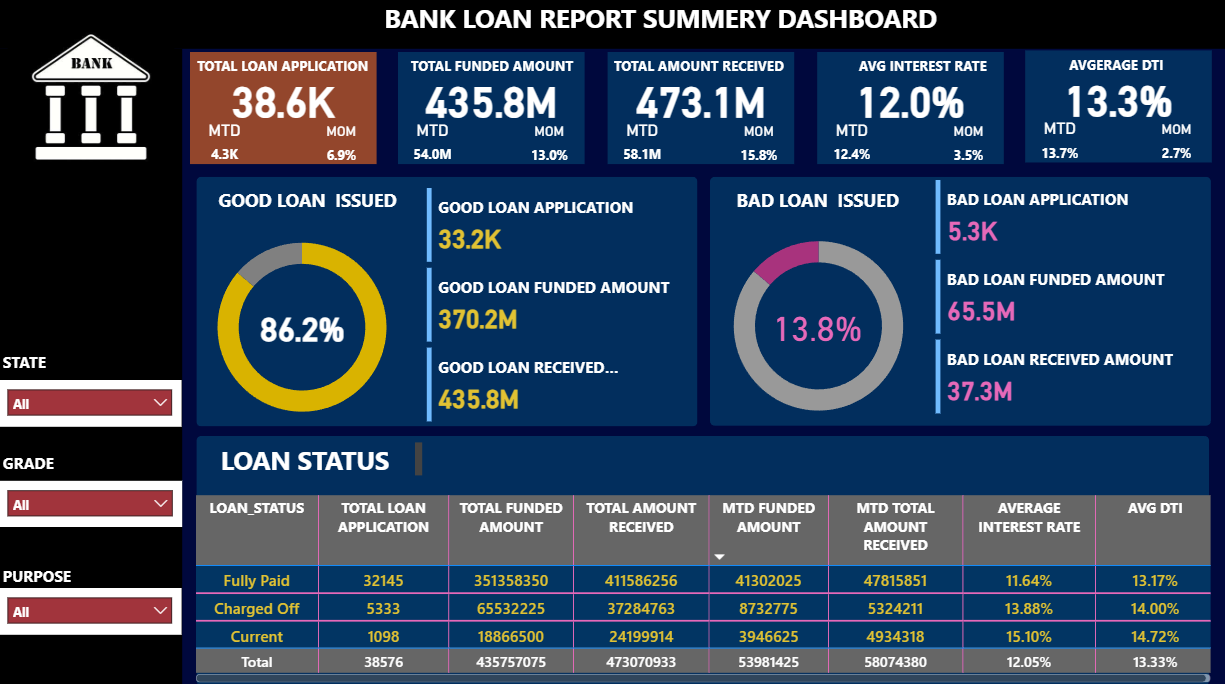

This screenshot's page, from the dashboard's own definition file:
{"tool":"powerbi","page":{"name":"Page 1","canvas":[1280,720],"ordinal":0},"visuals":[{"type":"shape","box":[0,54.9,192,665.6],"z":0},{"type":"shape","box":[0,0,1279.5,55],"z":1000},{"type":"shape","box":[199.2,58.2,194.6,116.7],"z":1000,"group":"g1"},{"type":"textbox","box":[311.1,0,757.1,51.6],"z":2000},{"type":"shape","box":[416.7,57.9,194.6,116.7],"z":2000,"group":"g2"},{"type":"group","id":"g1","title":"Group 1","box":[183.3,55.3,226,132.7],"z":3000},{"type":"shape","box":[634.3,57.9,194.6,116.7],"z":3000,"group":"g3"},{"type":"group","id":"g2","title":"Group 2","box":[400.8,55,226.2,133.8],"z":4000},{"type":"shape","box":[852,57.9,194.6,116.7],"z":4000,"group":"g4"},{"type":"group","id":"g3","title":"Group 3","box":[618.4,55,226.2,132.5],"z":5000},{"type":"shape","box":[1069.7,56.7,194.6,116.7],"z":5000,"group":"g5"},{"type":"group","id":"g4","title":"Group 4","box":[836.1,55,226.2,132.5],"z":6000},{"type":"card","fields":{"Values":["financial_loan.TOTAL LOAN APPLICATION"]},"box":[207.8,55.3,177.3,102.3],"z":7000,"group":"g1"},{"type":"shape","box":[207.1,188.6,522,260],"z":7000},{"type":"card","fields":{"Values":["financial_loan.TOTAL FUNDED AMOUNT"]},"box":[425.3,55,177.3,102.3],"z":8000,"group":"g2"},{"type":"shape","box":[742.2,188.8,521.7,259.4],"z":8000},{"type":"card","fields":{"Values":["financial_loan.TOTAL AMOUNT RECEIVED"]},"box":[642.9,55,177.3,102.3],"z":9000,"group":"g3"},{"type":"card","fields":{"Values":["financial_loan.BAD LOAN %"]},"box":[765.3,291.1,177.3,103.8],"z":9000},{"type":"group","id":"g5","title":"Group 5","box":[1053.8,53.8,226.2,132.5],"z":10000},{"type":"card","fields":{"Values":["financial_loan.AVERAGE INTEREST RATE"]},"box":[860.6,55,177.3,102.3],"z":10000,"group":"g4"},{"type":"donutChart","fields":{"Category":["financial_loan.Good vs Bad loan"],"Y":["financial_loan.TOTAL LOAN APPLICATION"]},"box":[191.4,228.7,250,230],"z":10000,"group":"g6"},{"type":"card","fields":{"Values":["financial_loan.AVG DTI"]},"box":[1078.3,53.8,177.3,102.3],"z":11000,"group":"g5"},{"type":"card","fields":{"Values":["financial_loan.GOOD LOAN %"]},"box":[228.6,292.9,177.1,102.9],"z":11000},{"type":"group","id":"g6","title":"Group 6","box":[191.4,194.3,254.3,264.3],"z":12000},{"type":"textbox","box":[195.8,58.4,200,33.3],"z":13000,"group":"g1"},{"type":"textbox","box":[197.7,194.3,248.6,34.3],"z":13000,"group":"g6"},{"type":"donutChart","fields":{"Category":["financial_loan.Good vs Bad loan"],"Y":["financial_loan.TOTAL LOAN APPLICATION"]},"box":[729.2,229.1,249.3,230.6],"z":13000},{"type":"textbox","box":[425.8,57.5,200,33.3],"z":14000,"group":"g2"},{"type":"cardVisual","fields":{"Data":["financial_loan.GOOD LOAN APPLICATION","financial_loan.GOOD LOAN FUNDED AMOUNT","financial_loan.GOOD LOAN RECEIVED AMOUNT"]},"box":[441.4,194.3,282.9,254.3],"z":14000},{"type":"textbox","box":[636,58.6,200,31.7],"z":15000,"group":"g3"},{"type":"textbox","box":[729.2,194.6,247.9,34.6],"z":15000},{"type":"textbox","box":[862,57.9,200.3,33.1],"z":16000,"group":"g4"},{"type":"cardVisual","fields":{"Data":["financial_loan.BAD LOAN APPLICATION","financial_loan.BAD LOAN FUNDED AMOUNT","financial_loan.BAD LOAN RECEIVED AMOUNT"]},"box":[971.3,185.9,283.9,253.6],"z":16000},{"type":"textbox","box":[1065.5,57.1,200,33.3],"z":17000,"group":"g5"},{"type":"shape","box":[206.7,458.3,1055,260],"z":17000},{"type":"card","title":"MTD","fields":{"Values":["financial_loan.MTD LOAN APPLICTION"]},"box":[183.3,130.2,105.2,56.2],"z":18000,"group":"g1"},{"type":"tableEx","fields":{"Values":["financial_loan.loan_status","financial_loan.TOTAL LOAN APPLICATION","financial_loan.TOTAL FUNDED AMOUNT","financial_loan.TOTAL AMOUNT RECEIVED","financial_loan.MTD FUNDED AMOUNT","financial_loan.MTD TOTAL AMOUNT RECEIVED","financial_loan.AVERAGE INTEREST RATE","financial_loan.AVG DTI"]},"box":[200,515,1068.3,205],"z":18000},{"type":"card","title":"MTD","fields":{"Values":["financial_loan.MOT FUNDED AMOUNT"]},"box":[400.8,129.9,105.2,56.2],"z":19000,"group":"g2"},{"type":"textbox","box":[200,460,246.7,45],"z":19000},{"type":"card","title":"MTD","fields":{"Values":["financial_loan.MTD TOTAL AMOUNT RECEIVED"]},"box":[618.4,129.9,105.2,56.2],"z":20000,"group":"g3"},{"type":"slicer","fields":{"Values":["financial_loan.address_state"]},"box":[0,400,191.4,48.6],"z":20000},{"type":"card","title":"MTD","fields":{"Values":["financial_loan.MTD AVERAGE INTEREST RATE"]},"box":[836.1,129.9,105.2,56.2],"z":21000,"group":"g4"},{"type":"textbox","box":[0,365.7,182.9,34.3],"z":21000},{"type":"card","title":"MTD","fields":{"Values":["financial_loan.MTD AVG DTI"]},"box":[1053.8,128.7,105.2,56.2],"z":22000,"group":"g5"},{"type":"slicer","fields":{"Values":["financial_loan.grade"]},"box":[0,505,191.7,48.3],"z":22000},{"type":"card","title":"MOM","fields":{"Values":["financial_loan.MOM LOAN APPLICATION"]},"box":[304.4,131.7,105.2,56.2],"z":23000,"group":"g1"},{"type":"textbox","box":[0,470,118.6,34.3],"z":23000},{"type":"card","title":"MOM","fields":{"Values":["financial_loan.MOM TOTAL FUNDED AMOUNT"]},"box":[521.9,131.4,105.2,56.2],"z":24000,"group":"g2"},{"type":"slicer","fields":{"Values":["financial_loan.purpose"]},"box":[0,617.1,191.4,48.6],"z":24000},{"type":"card","title":"MOM","fields":{"Values":["financial_loan.MOM TOTAL AMOUNT RECEIVED"]},"box":[739.5,131.4,105.2,56.2],"z":25000,"group":"g3"},{"type":"textbox","box":[0,588.6,118.6,34.3],"z":25000},{"type":"image","box":[5,8.3,183.6,193.6],"z":26000},{"type":"card","title":"MOM","fields":{"Values":["financial_loan.MOM AVG INT RATE"]},"box":[957.2,131.4,105.2,56.2],"z":26000,"group":"g4"},{"type":"card","title":"MOM","fields":{"Values":["financial_loan.MOM AVG DTI"]},"box":[1174.9,130.2,105.2,56.2],"z":27000,"group":"g5"}]}

Visuals, with their boxes in screenshot pixels (x1, y1, x2, y2), scaled from the page's 1280x720 canvas onto the 1225x684 screenshot:
shape: <region>0, 52, 184, 683</region>
shape: <region>0, 0, 1224, 52</region>
shape: <region>191, 55, 377, 166</region>
textbox: <region>298, 0, 1022, 49</region>
shape: <region>399, 55, 585, 166</region>
"Group 1" group: <region>175, 53, 392, 179</region>
shape: <region>607, 55, 793, 166</region>
"Group 2" group: <region>384, 52, 600, 179</region>
shape: <region>815, 55, 1002, 166</region>
"Group 3" group: <region>592, 52, 808, 178</region>
shape: <region>1024, 54, 1210, 165</region>
"Group 4" group: <region>800, 52, 1017, 178</region>
card - financial_loan.TOTAL LOAN APPLICATION: <region>199, 53, 369, 150</region>
shape: <region>198, 179, 698, 426</region>
card - financial_loan.TOTAL FUNDED AMOUNT: <region>407, 52, 577, 149</region>
shape: <region>710, 179, 1210, 426</region>
card - financial_loan.TOTAL AMOUNT RECEIVED: <region>615, 52, 785, 149</region>
card - financial_loan.BAD LOAN %: <region>732, 277, 902, 375</region>
"Group 5" group: <region>1009, 51, 1224, 177</region>
card - financial_loan.AVERAGE INTEREST RATE: <region>824, 52, 993, 149</region>
donutChart - financial_loan.Good vs Bad loan x financial_loan.TOTAL LOAN APPLICATION: <region>183, 217, 422, 436</region>
card - financial_loan.AVG DTI: <region>1032, 51, 1202, 148</region>
card - financial_loan.GOOD LOAN %: <region>219, 278, 388, 376</region>
"Group 6" group: <region>183, 185, 427, 436</region>
textbox: <region>187, 55, 379, 87</region>
textbox: <region>189, 185, 427, 217</region>
donutChart - financial_loan.Good vs Bad loan x financial_loan.TOTAL LOAN APPLICATION: <region>698, 218, 936, 437</region>
textbox: <region>408, 55, 599, 86</region>
cardVisual - financial_loan.GOOD LOAN APPLICATION x financial_loan.GOOD LOAN FUNDED AMOUNT: <region>422, 185, 693, 426</region>
textbox: <region>609, 56, 800, 86</region>
textbox: <region>698, 185, 935, 218</region>
textbox: <region>825, 55, 1017, 86</region>
cardVisual - financial_loan.BAD LOAN APPLICATION x financial_loan.BAD LOAN FUNDED AMOUNT: <region>930, 177, 1201, 418</region>
textbox: <region>1020, 54, 1211, 86</region>
shape: <region>198, 435, 1207, 682</region>
"MTD" card: <region>175, 124, 276, 177</region>
tableEx - financial_loan.loan_status x financial_loan.TOTAL LOAN APPLICATION: <region>191, 489, 1214, 683</region>
"MTD" card: <region>384, 123, 484, 177</region>
textbox: <region>191, 437, 428, 480</region>
"MTD" card: <region>592, 123, 693, 177</region>
slicer - financial_loan.address_state: <region>0, 380, 183, 426</region>
"MTD" card: <region>800, 123, 901, 177</region>
textbox: <region>0, 347, 175, 380</region>
"MTD" card: <region>1009, 122, 1109, 176</region>
slicer - financial_loan.grade: <region>0, 480, 183, 526</region>
"MOM" card: <region>291, 125, 392, 179</region>
textbox: <region>0, 446, 114, 479</region>
"MOM" card: <region>499, 125, 600, 178</region>
slicer - financial_loan.purpose: <region>0, 586, 183, 632</region>
"MOM" card: <region>708, 125, 808, 178</region>
textbox: <region>0, 559, 114, 592</region>
image: <region>5, 8, 180, 192</region>
"MOM" card: <region>916, 125, 1017, 178</region>
"MOM" card: <region>1124, 124, 1224, 177</region>
